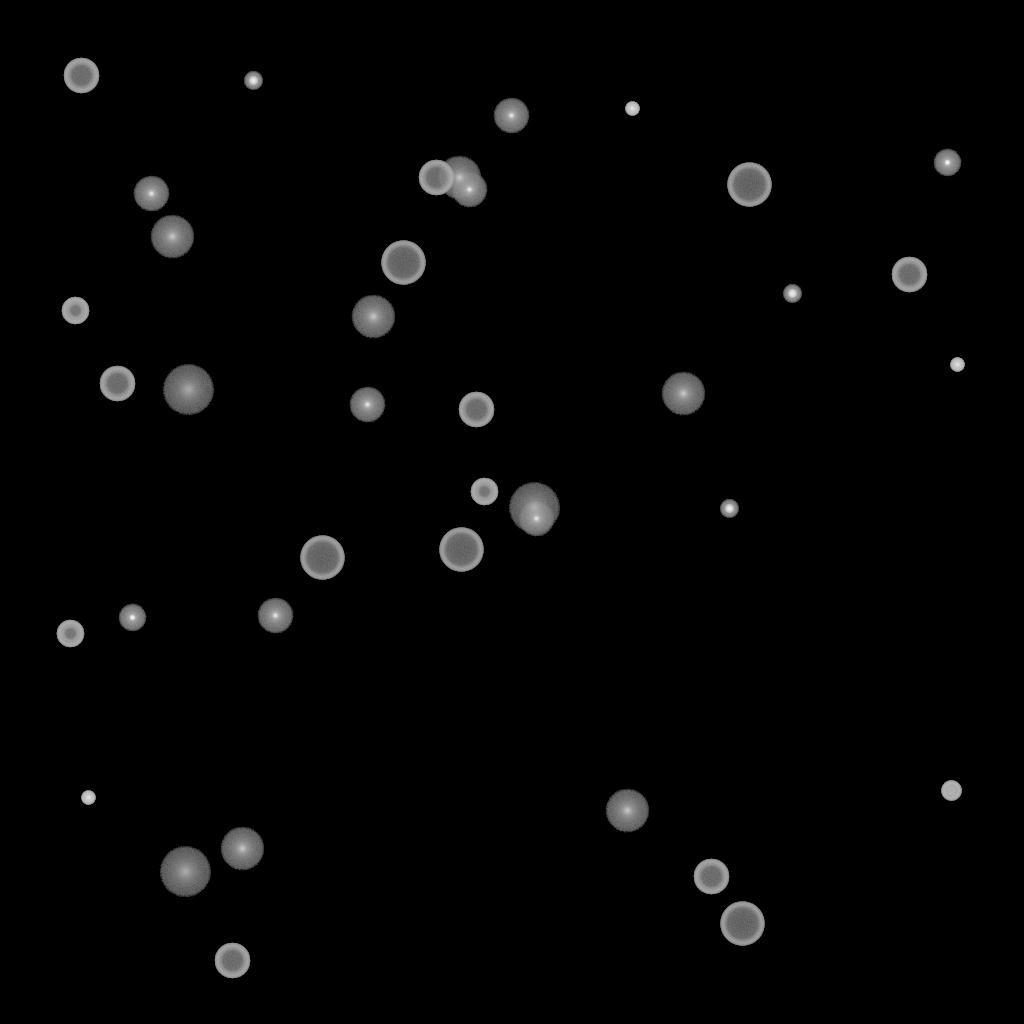depth:-10: (118, 604, 146, 632), (933, 149, 961, 177)
depth:-20: (720, 500, 738, 518), (783, 285, 801, 303), (244, 72, 262, 90)
depth:-30: (950, 358, 964, 372), (81, 791, 95, 805), (625, 102, 639, 116)
depth:-40: (941, 781, 961, 801)
depth:-50: (470, 478, 498, 506), (56, 620, 84, 648), (61, 297, 89, 325)
depth:-60: (693, 859, 729, 895), (891, 257, 927, 293), (99, 366, 135, 402), (63, 58, 99, 94), (418, 160, 454, 196), (214, 943, 250, 979), (458, 392, 494, 428)
depth:-70: (439, 528, 483, 572), (381, 241, 425, 285), (300, 536, 344, 580), (720, 902, 764, 946), (727, 163, 771, 207)
depth:0: (493, 98, 529, 134), (349, 387, 385, 423), (451, 172, 487, 208), (257, 598, 293, 634), (133, 176, 169, 212), (518, 501, 554, 537)
depth:10: (437, 156, 481, 200), (605, 789, 649, 833), (150, 215, 194, 259), (220, 827, 264, 871), (351, 295, 395, 339), (661, 372, 705, 416)
depth:20: (508, 483, 560, 533), (159, 847, 211, 897), (162, 365, 214, 415)
